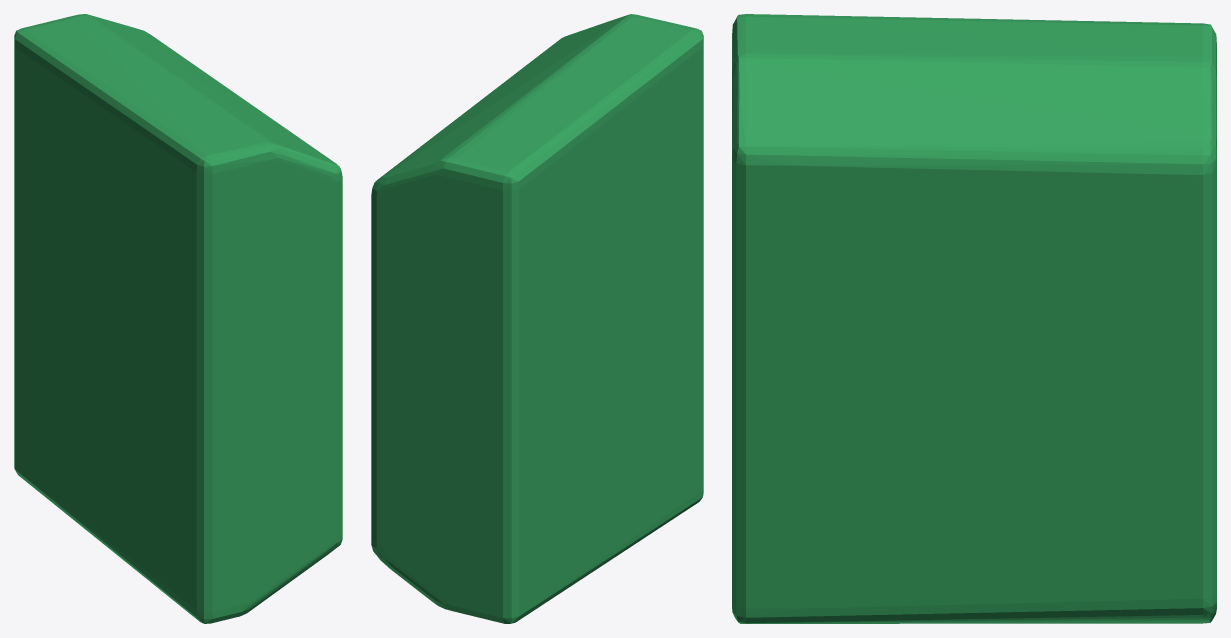
File: left_th_proximal_part_10.obj
The picture shows the model from 3 angles, left to right: view 1: azimuth 30°, elevation 25°; view 2: azimuth 150°, elevation 25°; view 3: azimuth 270°, elevation 25°; orthographic projection. The views are drawn at different scales.
Bounding box in the file's own units: 6.79 × 20.77 × 15.59.
